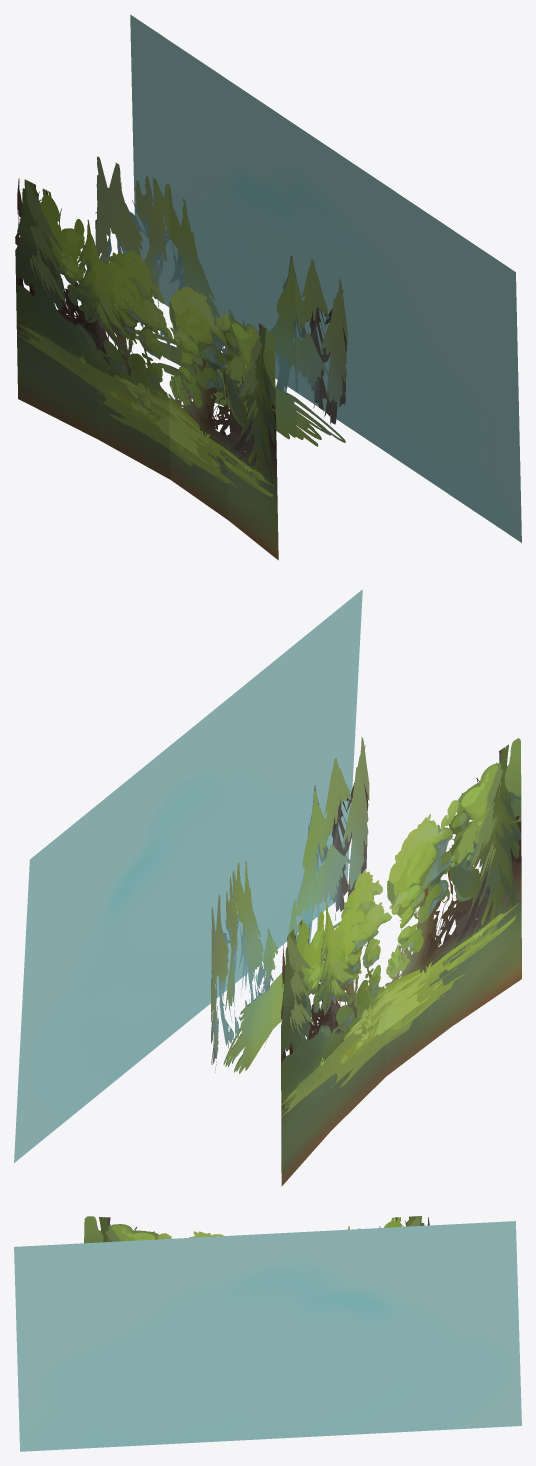
The model's file is SummerDecorationBackground.fbx.
3 views of the same model, one above another, from view 1: azimuth 30°, elevation 25°; view 2: azimuth 150°, elevation 25°; view 3: azimuth 270°, elevation 25° (orthographic). The views are drawn at different scales.
Visible parts, largest first — view 1: SummerSpringSky, SummerFront, SummerSpringBack; view 2: SummerSpringSky, SummerFront, SummerSpringBack; view 3: SummerSpringSky, SummerFront.
Part boxes in pixels (x1=…): SummerSpringSky: x1=130, y1=14, x2=521, y2=542; SummerFront: x1=15, y1=178, x2=278, y2=560; SummerSpringBack: x1=95, y1=156, x2=347, y2=446; SummerSpringSky: x1=14, y1=589, x2=362, y2=1162; SummerFront: x1=281, y1=738, x2=521, y2=1186; SummerSpringBack: x1=211, y1=736, x2=369, y2=1073; SummerSpringSky: x1=14, y1=1221, x2=521, y2=1451; SummerFront: x1=84, y1=1216, x2=429, y2=1243.
Size of the model in its own units: 2529 by 3356 by 6835.
3 materials, 3 textured.
